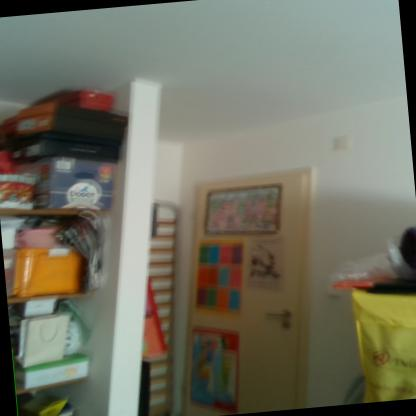closed: (164, 161, 336, 415)
